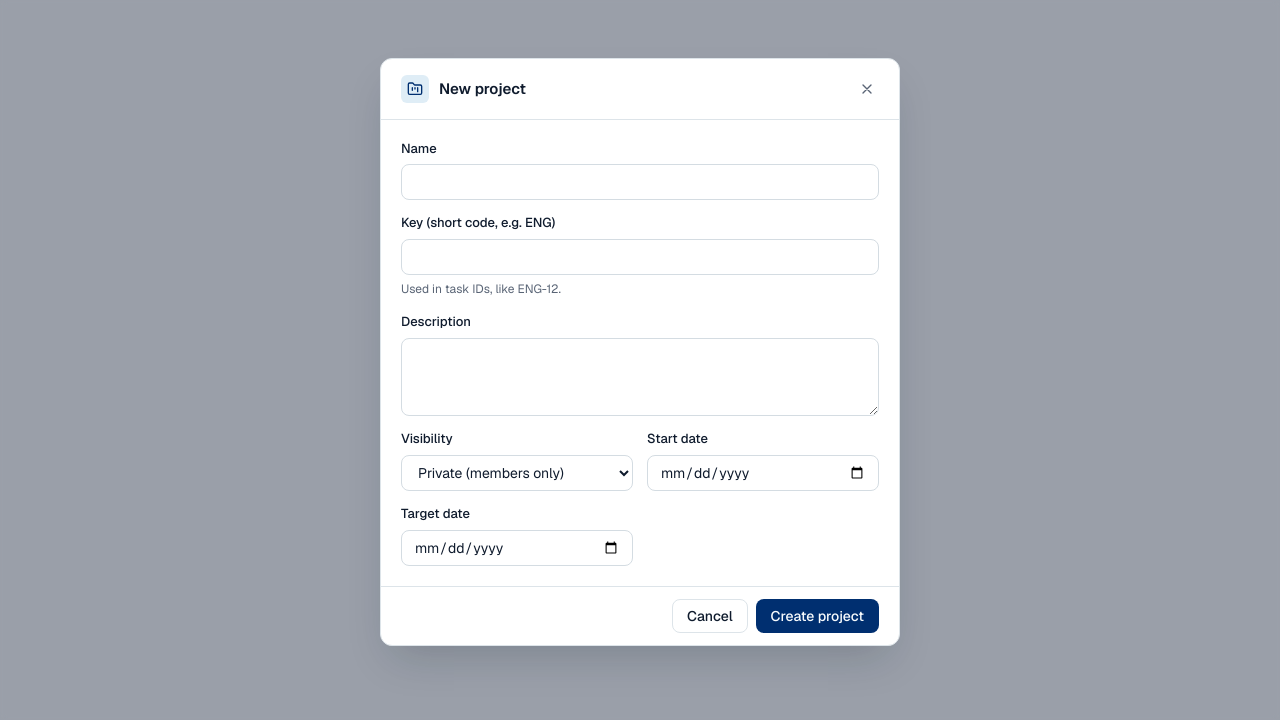
Test case: CreateProjectModal › shows an error message when creation fails
The width and height of the screenshot is (1280, 720).
Type "Dup" into the field labelled "Name" at (640,182), box x1=401 y1=164 x2=879 y2=200
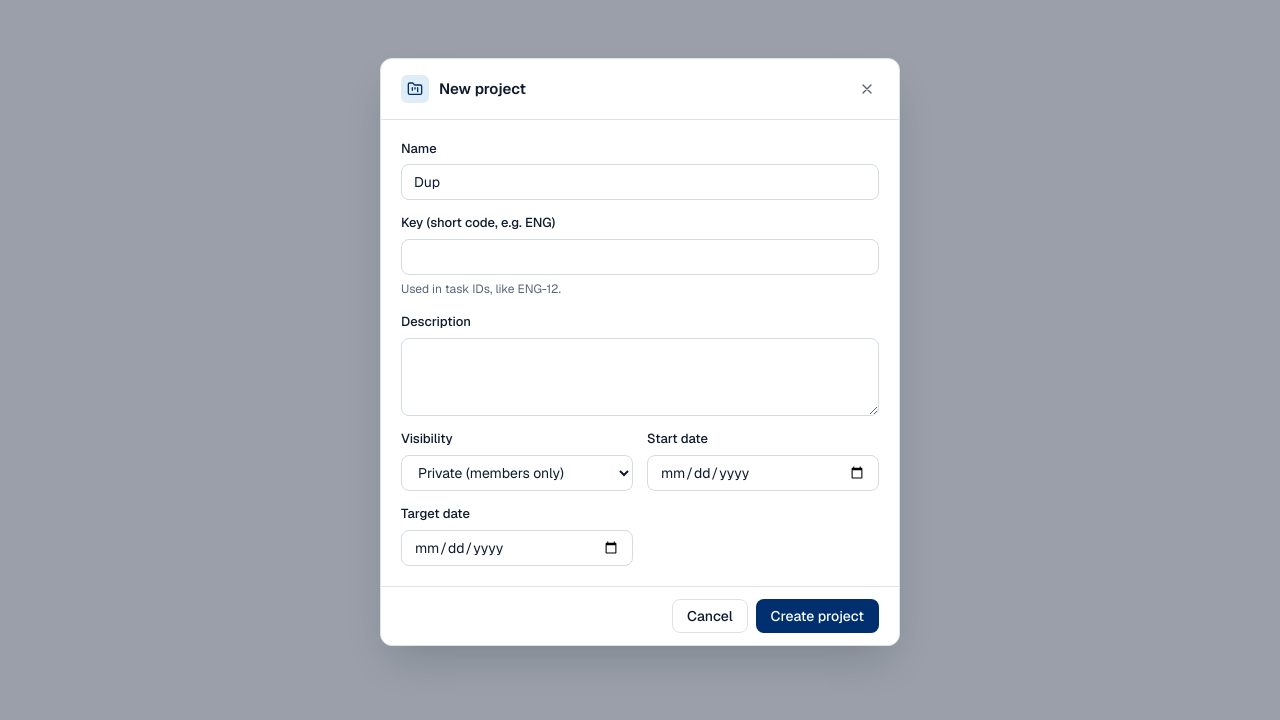
Type "DUP" into the field labelled "Key (short code, e.g. ENG)" at (640,257), box x1=401 y1=239 x2=879 y2=275
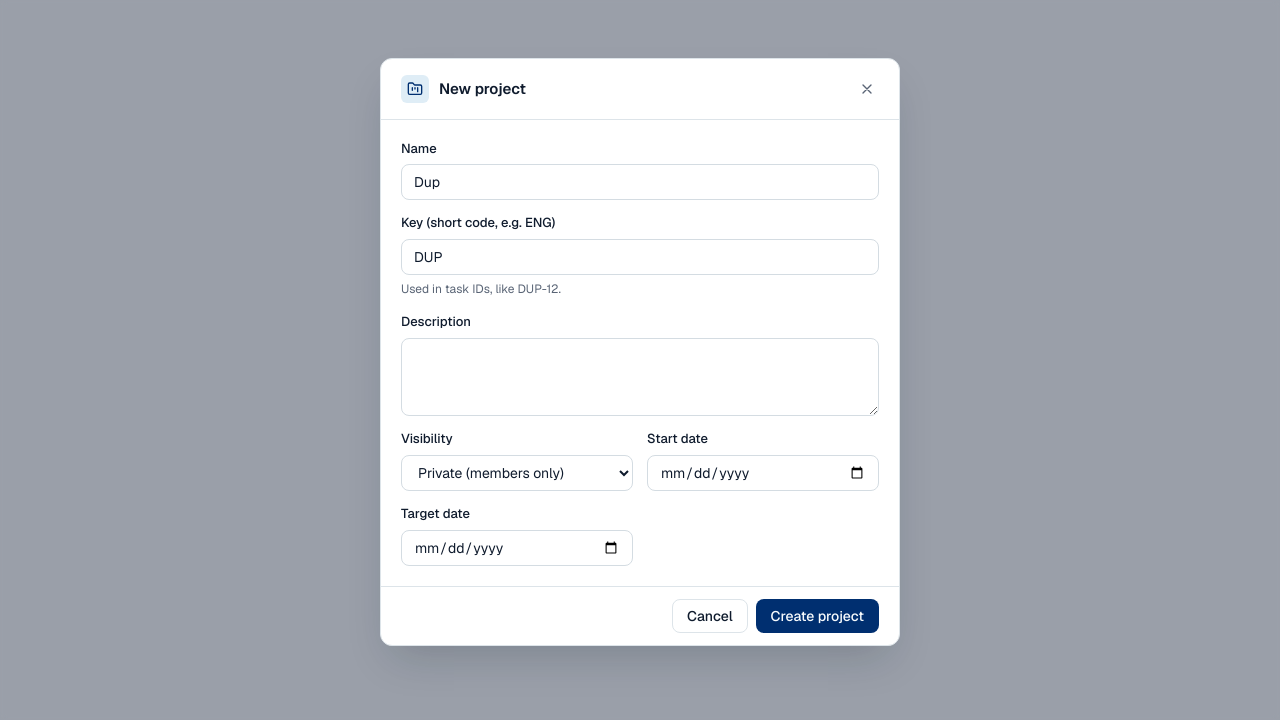
Click the button "Create project" at (817,616), box x1=756 y1=599 x2=879 y2=633
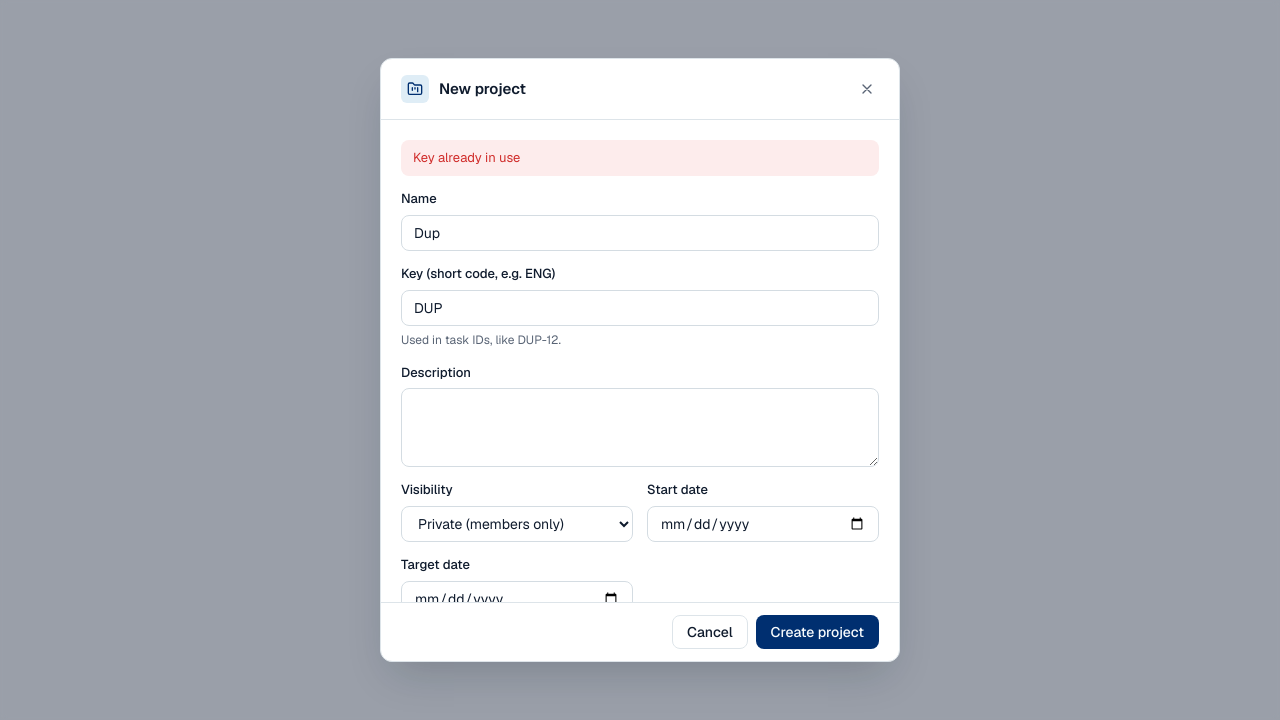
expect the text "Key already in use" is shown: met, box x1=401 y1=140 x2=879 y2=176
